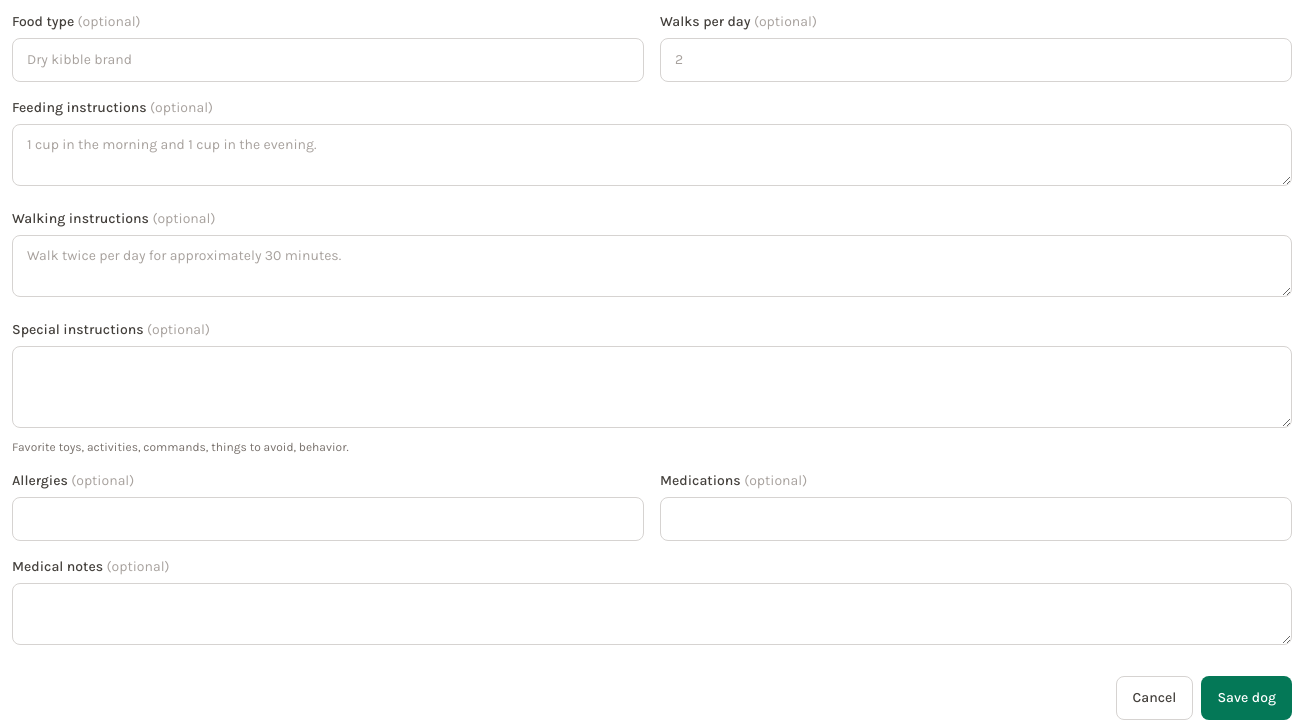
it: DogForm › shows a validation error and does not submit when the dog name is missing
(page scrolled)
What coordinates should you click on to do the following:
click the button "Save dog"
I would click on:
 (1247, 698)
Its box is 1201,676 -> 1292,719.
(page scrolled)
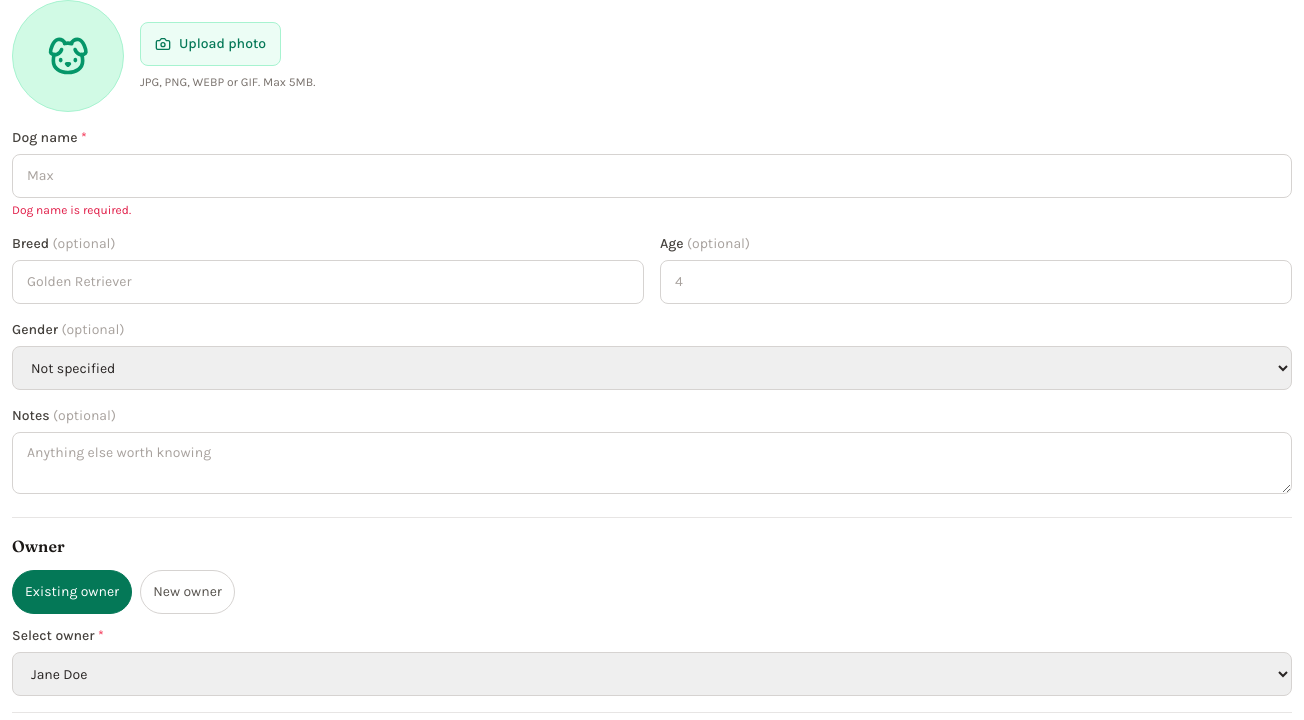
Check: the text "Dog name is required." is shown, box 12,203 -> 131,217
